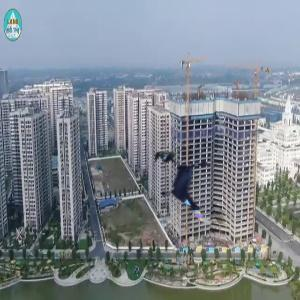drone: (155, 152, 231, 228)
